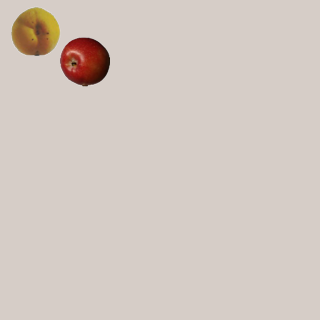Apple Braeburn: (59, 36, 109, 86)
Peach 2: (10, 5, 60, 55)
